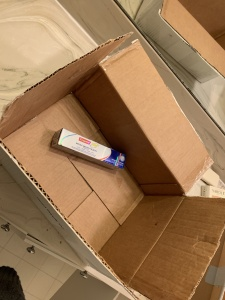innerbox: (31, 80, 164, 251)
outerbox: (1, 35, 225, 294)
product: (54, 128, 125, 167)
